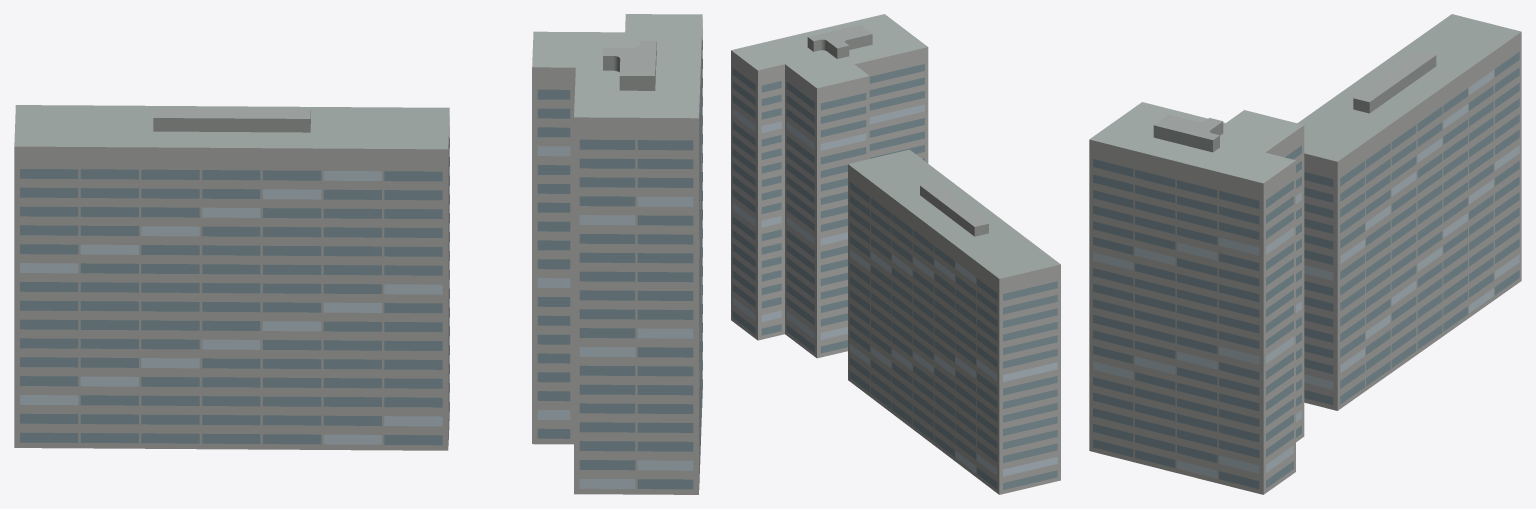
Rendered from apt-a15004501.glb.
The picture shows the model from 3 angles, left to right: view 1: azimuth 30°, elevation 25°; view 2: azimuth 150°, elevation 25°; view 3: azimuth 270°, elevation 25°; orthographic projection. The views are drawn at different scales.
Visible parts, largest first — view 1: apt-a15004501; view 2: apt-a15004501; view 3: apt-a15004501.
Boxes of the visible parts, x1,y1,x2,y2 form: apt-a15004501: (14,14,702,494); apt-a15004501: (731,14,1060,494); apt-a15004501: (1089,14,1521,494).
Bounding box in the file's own units: 97.31 × 63.4 × 76.75.
